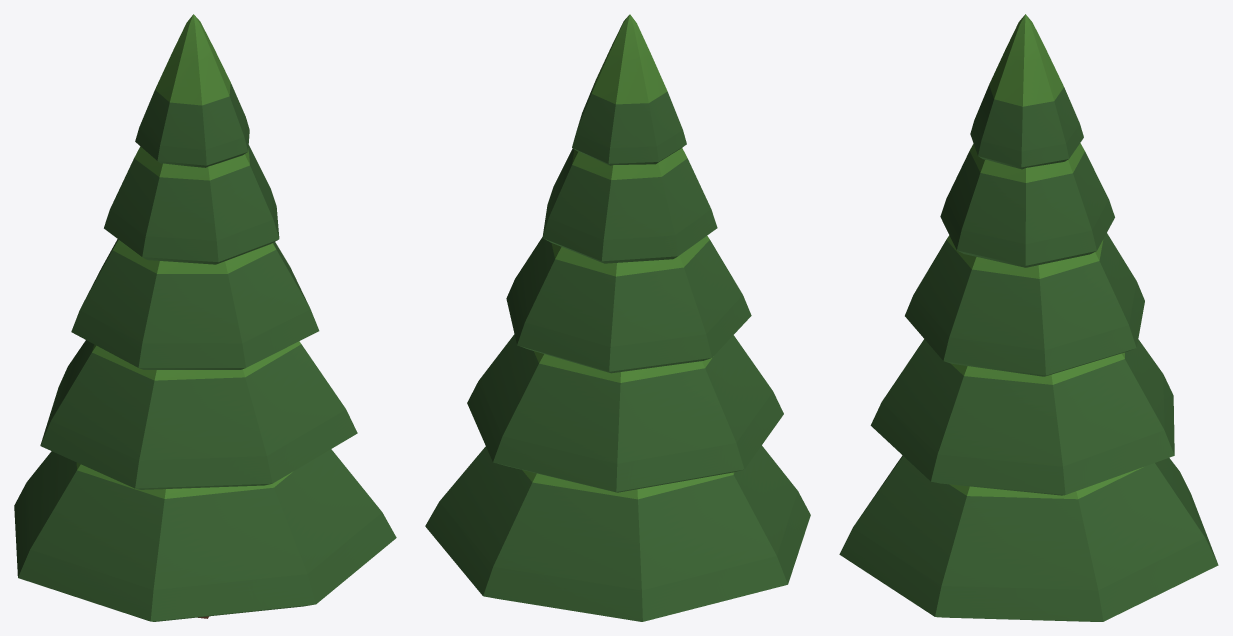
Rendered from SM_Tree_Spruce02_LOD1.fbx.
The picture shows the model from 3 angles, left to right: view 1: azimuth 30°, elevation 25°; view 2: azimuth 150°, elevation 25°; view 3: azimuth 270°, elevation 25°; orthographic projection.
Visible parts, largest first — view 1: SM_Tree_Spruce02_LOD1; view 2: SM_Tree_Spruce02_LOD1; view 3: SM_Tree_Spruce02_LOD1.
Boxes of the visible parts, x1,y1,x2,y2 form: SM_Tree_Spruce02_LOD1: [14, 14, 396, 621]; SM_Tree_Spruce02_LOD1: [425, 14, 810, 621]; SM_Tree_Spruce02_LOD1: [839, 14, 1218, 621].
Size of the model in its own units: 14.42 by 24.45 by 14.2.
1 material, 1 textured.
